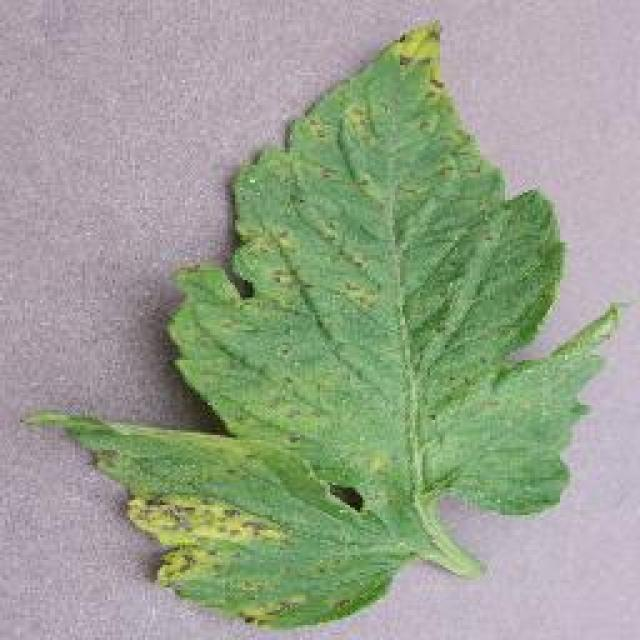Tomato Septoria spot leaf: (24, 18, 627, 630)
